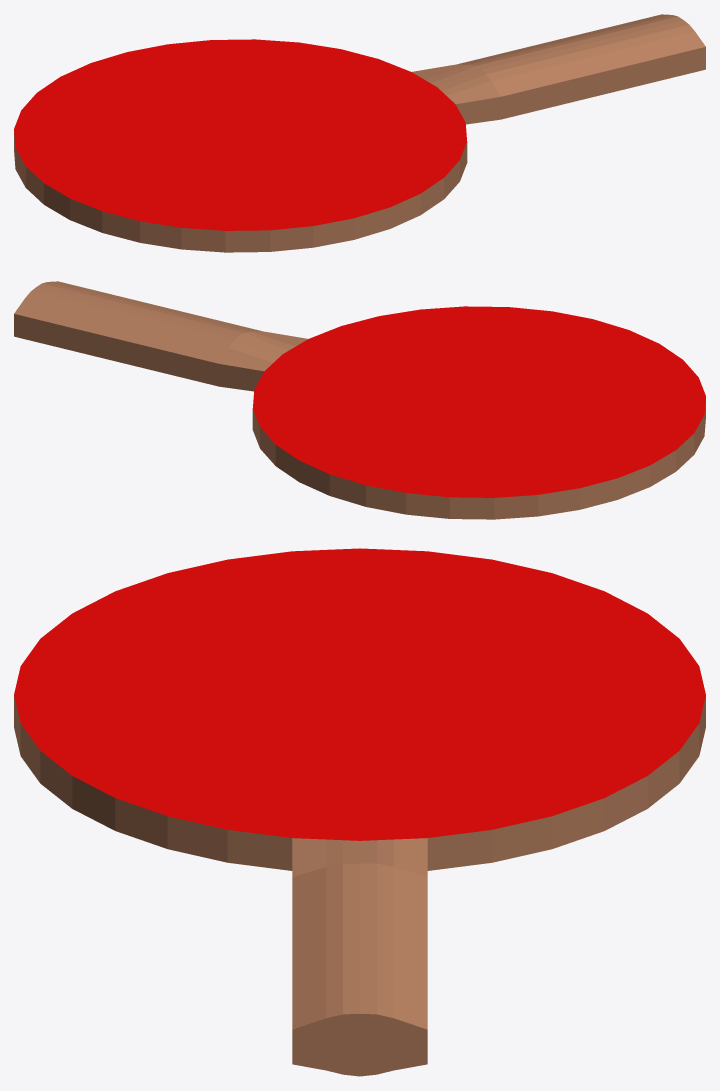
File: paleta.fbx
3 renders of one model, top to bottom at view 1: azimuth 30°, elevation 25°; view 2: azimuth 150°, elevation 25°; view 3: azimuth 270°, elevation 25°, orthographic. The views are drawn at different scales.
Visible parts, largest first — view 1: Paleta de Ping Pong; view 2: Paleta de Ping Pong; view 3: Paleta de Ping Pong.
Boxes of the visible parts, x1,y1,x2,y2 form: Paleta de Ping Pong: (14, 14, 705, 252); Paleta de Ping Pong: (14, 281, 705, 519); Paleta de Ping Pong: (14, 548, 705, 1076).
Size of the model in its own units: 325 by 20 by 200.
